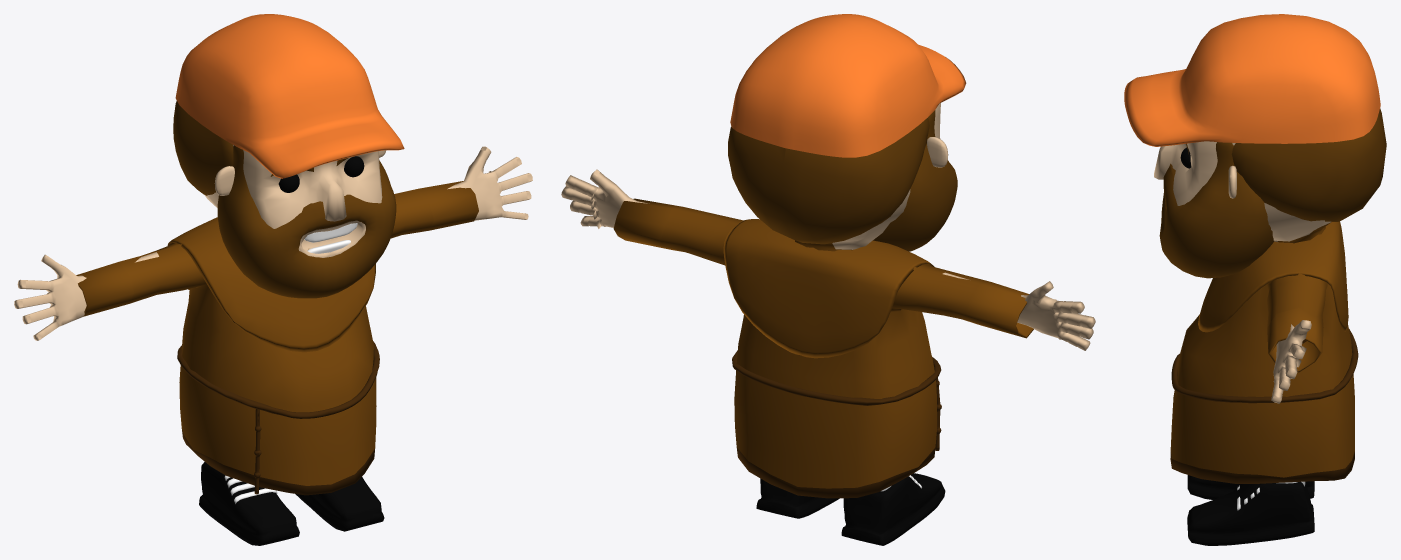
Rendered from Pachitou.glb.
3 renders of one model, left to right at view 1: azimuth 30°, elevation 25°; view 2: azimuth 150°, elevation 25°; view 3: azimuth 270°, elevation 25°, orthographic. The views are drawn at different scales.
Parts seen in each view (by area): view 1: polySurface118, PachitoTexturas:GORRA.001, PachitoTexturas:barba_LOW, PachitoTexturas:Babero, polySurface117, PachitoTexturas:zapato_DER_LOW, PachitoTexturas:cabello_low, PachitoTexturas:zapato_IZQ_LOW, PachitoTexturas:cuerda_LOW, polySurface64, polySurface45, polySurface42 (+4 smaller); view 2: polySurface118, PachitoTexturas:GORRA.001, PachitoTexturas:Babero, PachitoTexturas:cabello_low, PachitoTexturas:zapato_DER_LOW, PachitoTexturas:barba_LOW, polySurface64, polySurface45, PachitoTexturas:cuerda_LOW, polySurface44, PachitoTexturas:zapato_IZQ_LOW, polySurface42 (+2 smaller); view 3: PachitoTexturas:GORRA.001, polySurface118, PachitoTexturas:cabello_low, PachitoTexturas:barba_LOW, PachitoTexturas:Babero, PachitoTexturas:zapato_IZQ_LOW, polySurface117, polySurface45, polySurface44, PachitoTexturas:cuerda_LOW, PachitoTexturas:zapato_DER_LOW, polySurface21.
Boxes of the visible parts, x1,y1,x2,y2 form: polySurface118: (119, 189, 433, 485); PachitoTexturas:GORRA.001: (175, 14, 404, 178); PachitoTexturas:barba_LOW: (217, 145, 396, 298); PachitoTexturas:Babero: (167, 217, 375, 352); polySurface117: (204, 145, 382, 257); PachitoTexturas:zapato_DER_LOW: (199, 462, 299, 545); PachitoTexturas:cabello_low: (173, 100, 233, 195); PachitoTexturas:zapato_IZQ_LOW: (295, 477, 384, 531); PachitoTexturas:cuerda_LOW: (177, 341, 379, 494); polySurface64: (76, 262, 133, 316); polySurface45: (418, 181, 478, 230); polySurface42: (41, 252, 158, 326); polySurface118: (661, 207, 990, 488); PachitoTexturas:GORRA.001: (730, 14, 966, 157); PachitoTexturas:Babero: (723, 219, 934, 358); PachitoTexturas:cabello_low: (728, 118, 929, 244); PachitoTexturas:zapato_DER_LOW: (841, 473, 945, 545); PachitoTexturas:barba_LOW: (873, 110, 957, 251); polySurface64: (966, 282, 1033, 338); polySurface45: (613, 198, 682, 249); PachitoTexturas:cuerda_LOW: (732, 350, 941, 450); polySurface44: (736, 447, 935, 498); PachitoTexturas:zapato_IZQ_LOW: (756, 478, 839, 518); polySurface42: (942, 272, 1063, 339); PachitoTexturas:GORRA.001: (1124, 14, 1380, 146); polySurface118: (1170, 222, 1354, 477); PachitoTexturas:cabello_low: (1231, 108, 1386, 221); PachitoTexturas:barba_LOW: (1159, 142, 1274, 278); PachitoTexturas:Babero: (1198, 221, 1348, 332); PachitoTexturas:zapato_IZQ_LOW: (1187, 481, 1314, 545); polySurface117: (1154, 141, 1330, 242); polySurface45: (1267, 308, 1323, 372); polySurface44: (1170, 451, 1354, 483); PachitoTexturas:cuerda_LOW: (1171, 329, 1358, 403); PachitoTexturas:zapato_DER_LOW: (1187, 475, 1314, 499); polySurface21: (1273, 320, 1311, 382).
Bounding box in the file's own units: 0.6517 × 0.584 × 0.2814.
